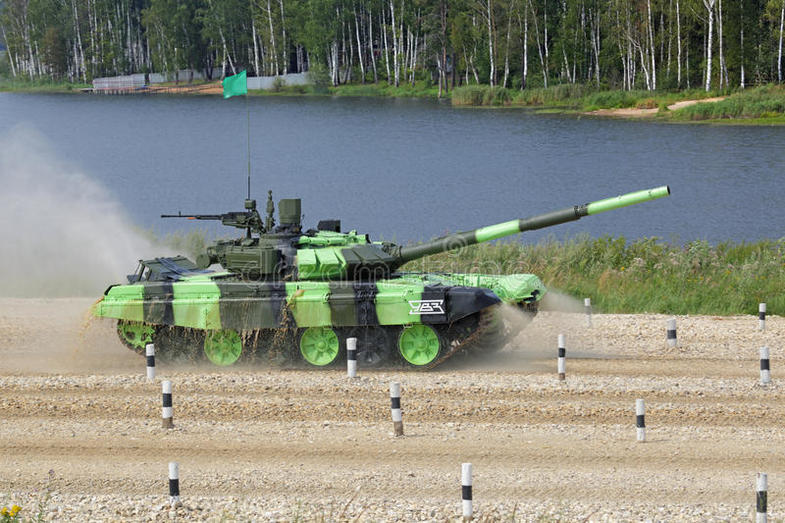t72: (94, 194, 554, 352)
